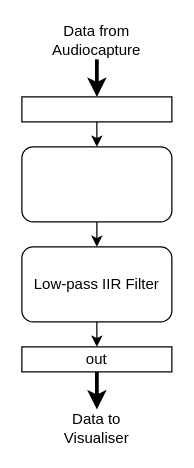
This 194x468 diagram has some shape labels left out. The shapes that lost their labels are listed below. From the top down, each one's centre as x and y in pixels, then its label:
(x=96, y=109): buffer
(x=96, y=184): Full-wave Recifier
